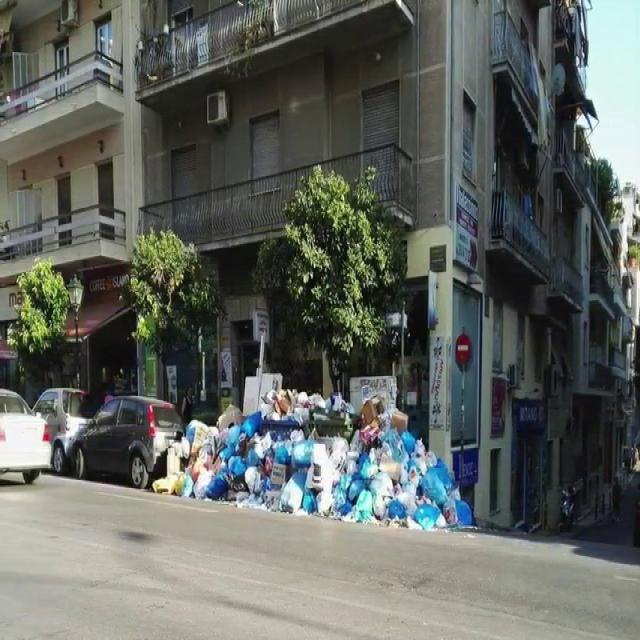garbage: (170, 384, 474, 533)
